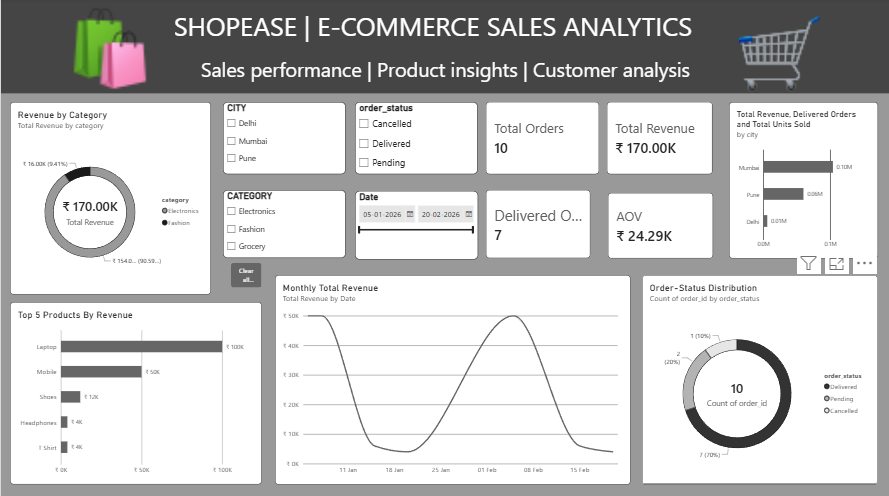

What the dashboard file says about the page in this screenshot:
{"tool":"powerbi","page":{"name":"Page 1","canvas":[1920,1080],"ordinal":0},"visuals":[{"type":"shape","box":[0,0,1920,206.5],"z":0},{"type":"textbox","box":[201.1,21.5,1464.1,83.1],"z":1000},{"type":"textbox","box":[0,126,1920,80.4],"z":2000},{"type":"cardVisual","fields":{"Data":["DateTable.Total Revenue"]},"box":[1308.6,225.3,227.9,155.5],"z":3000},{"type":"cardVisual","fields":{"Data":["shopease_final_data.AOV"]},"box":[1311.3,421,226.7,141],"z":4000},{"type":"cardVisual","fields":{"Data":["shopease_final_data.Total Orders"]},"box":[1048.5,225.3,244,155.5],"z":5000},{"type":"cardVisual","fields":{"Data":["shopease_final_data.Delivered Orders"]},"box":[1048.5,415.6,225.3,147.5],"z":6000},{"type":"slicer","fields":{"Values":["shopease_final_data.city"]},"box":[480,225.3,265.5,155.5],"z":7000},{"type":"slicer","fields":{"Values":["shopease_final_data.category"]},"box":[480,415.6,265.5,147.5],"z":8000},{"type":"slicer","fields":{"Values":["shopease_final_data.order_status"]},"box":[764.2,225.3,265.5,155.5],"z":9000},{"type":"slicer","fields":{"Values":["DateTable.Date"]},"box":[764,416,266,148],"z":10000},{"type":"lineChart","title":"Monthly Total Revenue","fields":{"Category":["DateTable.Date"],"Y":["DateTable.Total Revenue"]},"box":[594,598.3,766.9,447.8],"z":11000},{"type":"donutChart","title":"Revenue by Category","fields":{"Category":["shopease_final_data.category"],"Y":["DateTable.Total Revenue"]},"box":[18.8,225.3,434.4,415.6],"z":12000},{"type":"clusteredBarChart","fields":{"Category":["shopease_final_data.city"],"Y":["DateTable.Total Revenue"]},"box":[1572.5,225,322,338],"z":13000},{"type":"clusteredBarChart","title":"Top 5 Products By Revenue","fields":{"Category":["shopease_final_data.product_name"],"Y":["DateTable.Total Revenue"]},"box":[18.8,657,544.4,394.2],"z":14000},{"type":"donutChart","title":"Order-Status Distribution","fields":{"Category":["shopease_final_data.order_status"],"Y":["Count(shopease_final_data.order_id)"]},"box":[1385,597.5,509.5,453.2],"z":15000},{"type":"image","box":[1594.1,21.6,175,194.4],"z":16000},{"type":"image","box":[131.8,0,207.4,218.2],"z":17000}]}

Visuals, with their boxes in screenshot pixels (x1, y1, x2, y2), scaled from the page's 1920x1080 canvas onto the 889x496 screenshot:
shape: 0, 0, 888, 95
textbox: 93, 10, 771, 48
textbox: 0, 58, 888, 95
cardVisual - DateTable.Total Revenue: 606, 103, 711, 175
cardVisual - shopease_final_data.AOV: 607, 193, 712, 258
cardVisual - shopease_final_data.Total Orders: 485, 103, 598, 175
cardVisual - shopease_final_data.Delivered Orders: 485, 191, 590, 259
slicer - shopease_final_data.city: 222, 103, 345, 175
slicer - shopease_final_data.category: 222, 191, 345, 259
slicer - shopease_final_data.order_status: 354, 103, 477, 175
slicer - DateTable.Date: 354, 191, 477, 259
"Monthly Total Revenue" lineChart: 275, 275, 630, 480
"Revenue by Category" donutChart: 9, 103, 210, 294
clusteredBarChart - shopease_final_data.city x DateTable.Total Revenue: 728, 103, 877, 259
"Top 5 Products By Revenue" clusteredBarChart: 9, 302, 261, 483
"Order-Status Distribution" donutChart: 641, 274, 877, 483
image: 738, 10, 819, 99
image: 61, 0, 157, 100
